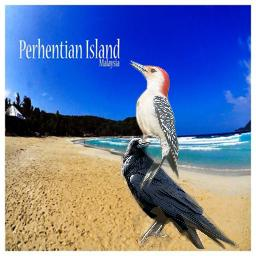Crow: (121, 137, 239, 249)
Woodpecker: (127, 60, 179, 190)
